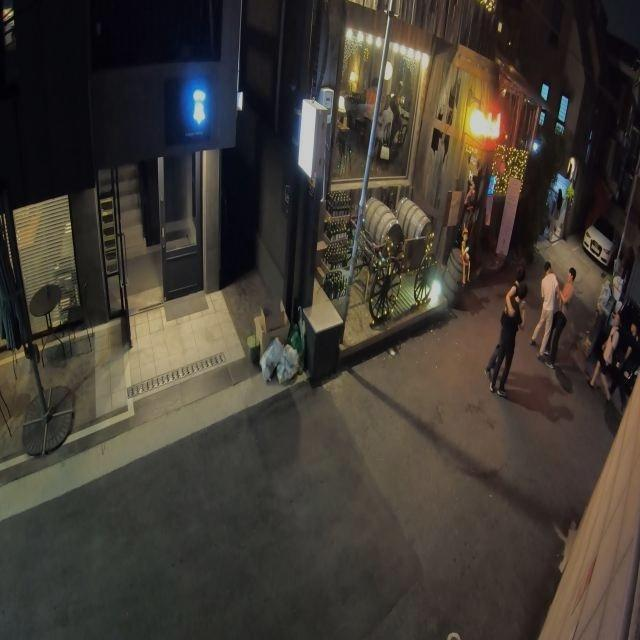fight: (530, 259, 574, 365)
non-fight: (486, 264, 526, 381), (489, 285, 527, 397)
